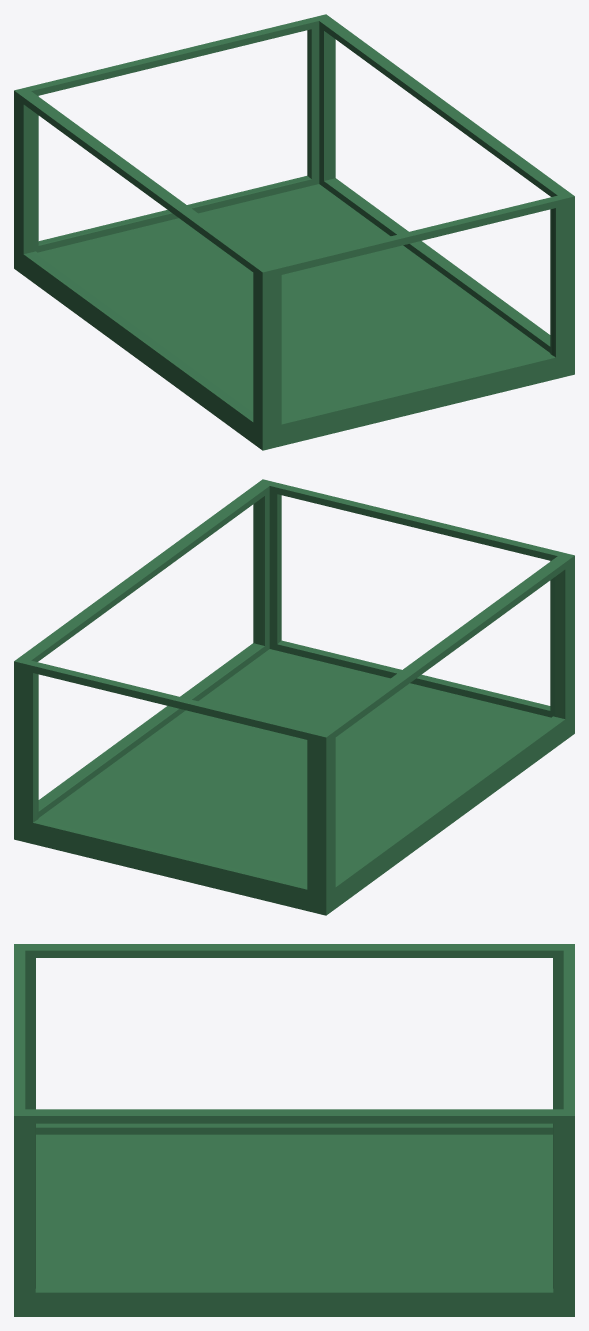
Rendered from Tank.fbx.
3 renders of one model, top to bottom at view 1: azimuth 30°, elevation 25°; view 2: azimuth 150°, elevation 25°; view 3: azimuth 270°, elevation 25°, orthographic. The views are drawn at different scales.
Visible parts, largest first — view 1: BoxOutter; view 2: BoxOutter; view 3: BoxOutter.
Boxes of the visible parts, x1,y1,x2,y2 form: BoxOutter: (14,14,574,450); BoxOutter: (14,479,574,915); BoxOutter: (14,944,574,1316).
Bounding box in the file's own units: 11 × 6 × 15.18.
